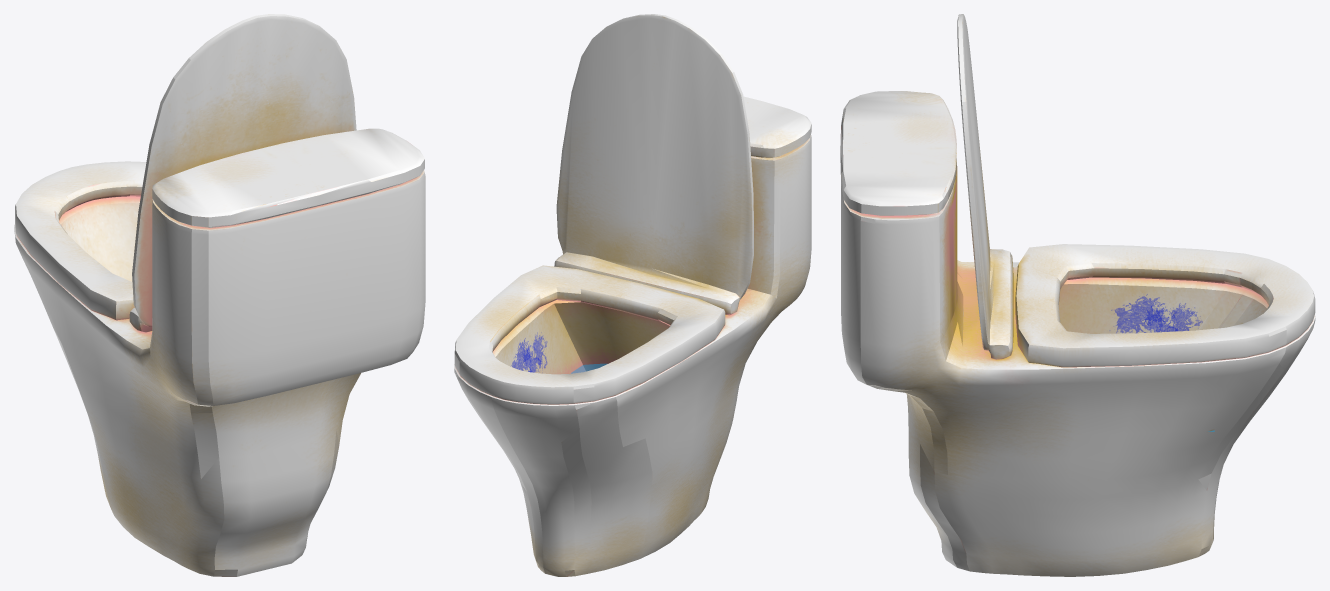
The model's file is New_Toilet.glb.
The picture shows the model from 3 angles, left to right: view 1: azimuth 30°, elevation 25°; view 2: azimuth 150°, elevation 25°; view 3: azimuth 270°, elevation 25°; orthographic projection. The views are drawn at different scales.
Parts seen in each view (by area): view 1: Int_Apt_01_Wall_01__14_1.004; view 2: Int_Apt_01_Wall_01__14_1.004, Plane; view 3: Int_Apt_01_Wall_01__14_1.004, Plane.003.
Boxes of the visible parts, bbox=[...] form: Int_Apt_01_Wall_01__14_1.004: bbox=[14, 14, 425, 576]; Int_Apt_01_Wall_01__14_1.004: bbox=[454, 14, 811, 576]; Plane: bbox=[511, 333, 546, 372]; Int_Apt_01_Wall_01__14_1.004: bbox=[840, 14, 1315, 576]; Plane.003: bbox=[1111, 294, 1202, 333].
Size of the model in its own units: 0.6892 by 1.45 by 1.19.
8 materials, 7 textured.
